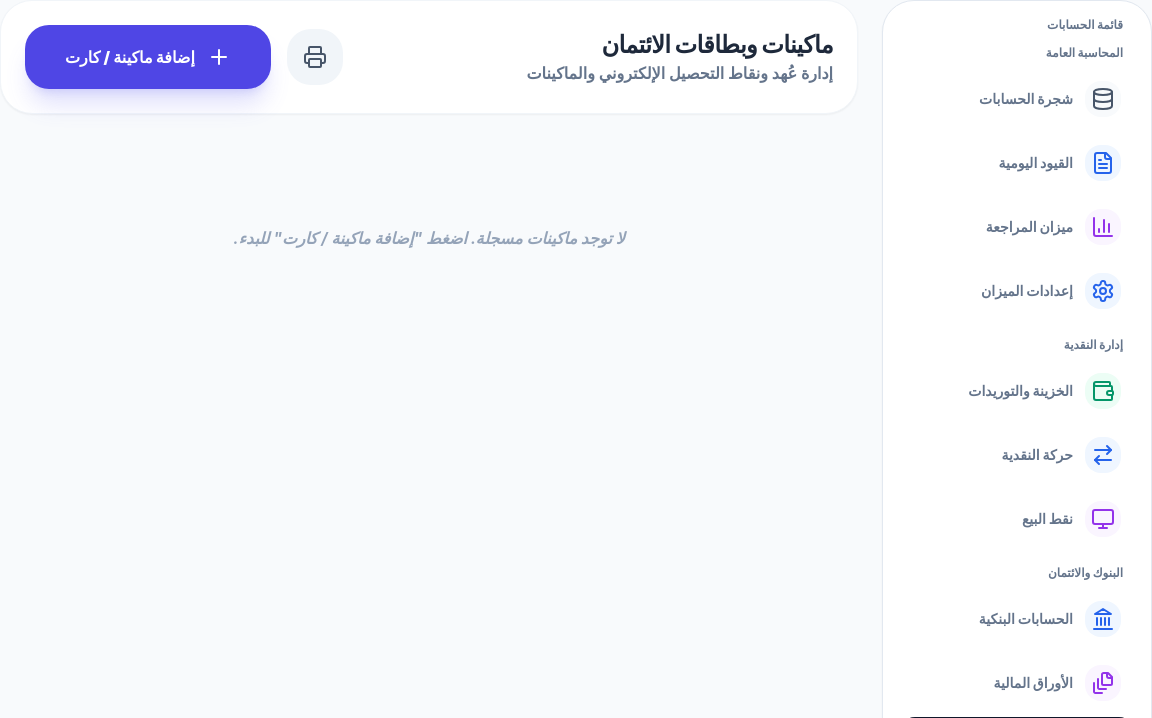
Test: coverage gap: finance master-data controls › opens the real cards add modal from the visible control
The image size is (1152, 718).
Click the button "إضافة ماكينة / كارت": (148, 57) [25,25,271,89]
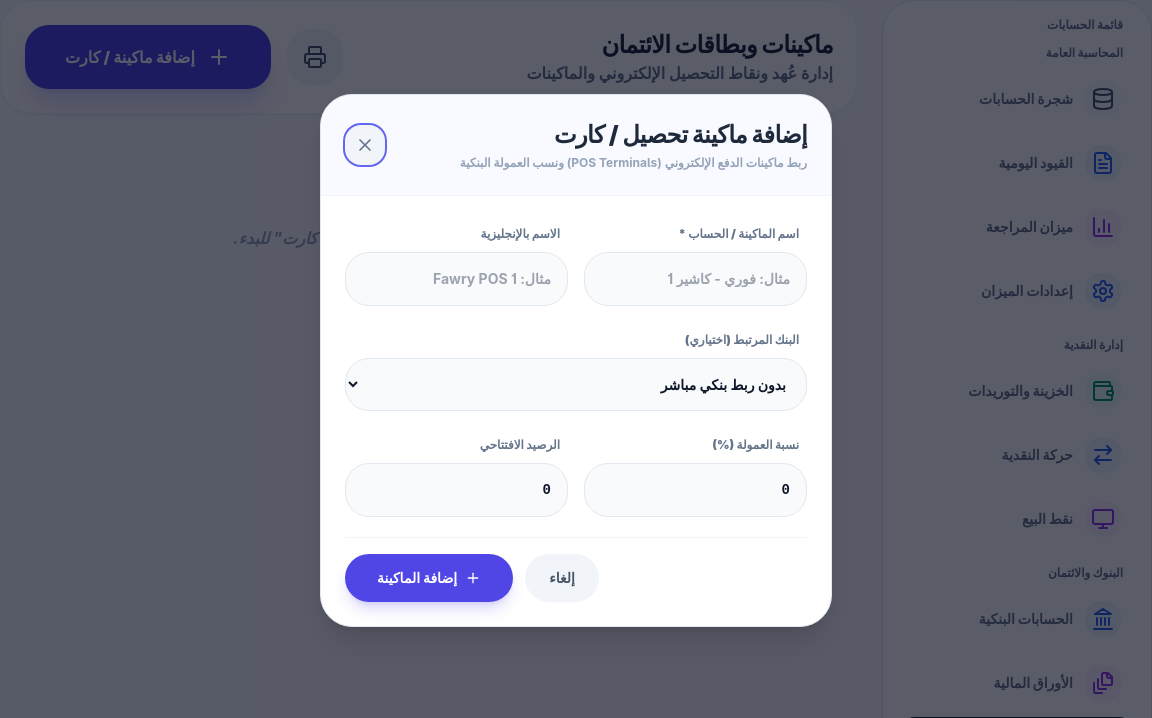
expect the heading "إضافة ماكينة تحصيل / كارت" is shown: met, box [554,120,807,148]
